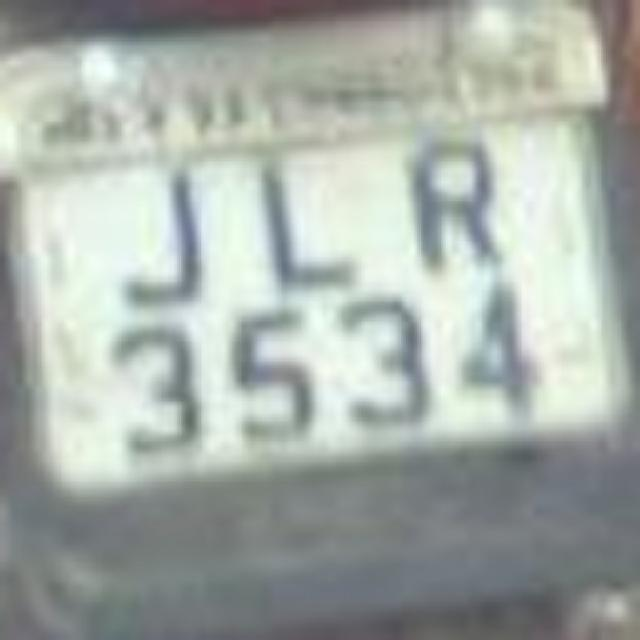3: (84, 296, 228, 484), (304, 268, 456, 440)
4: (428, 264, 560, 424)
5: (200, 296, 345, 444)
J: (88, 160, 220, 320), (225, 140, 360, 295)
R: (384, 112, 516, 292)
